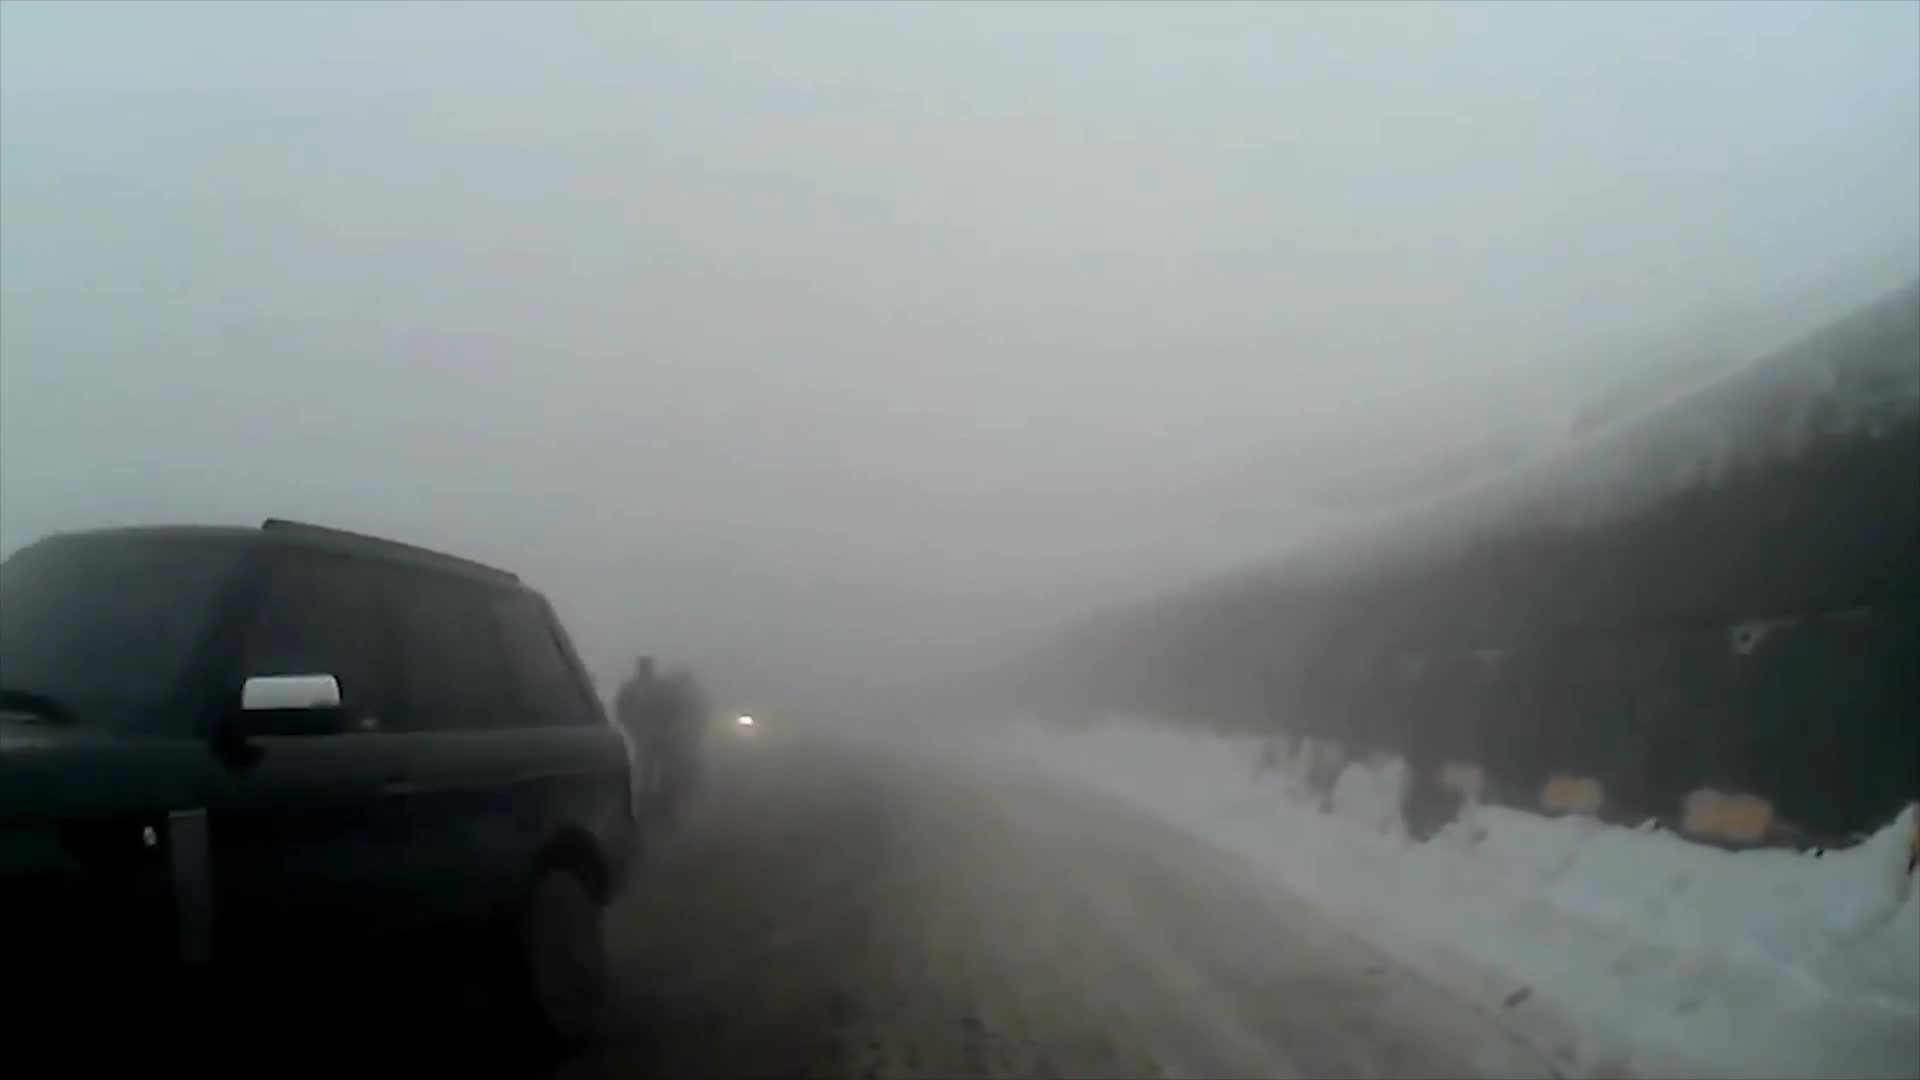pedestrian: (538, 661, 624, 839)
vehicle: (0, 516, 645, 1080)
